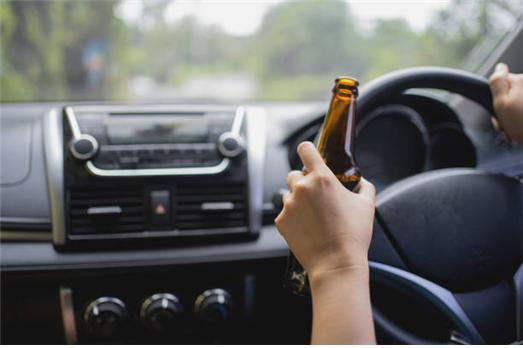alcohol: (285, 77, 366, 297)
